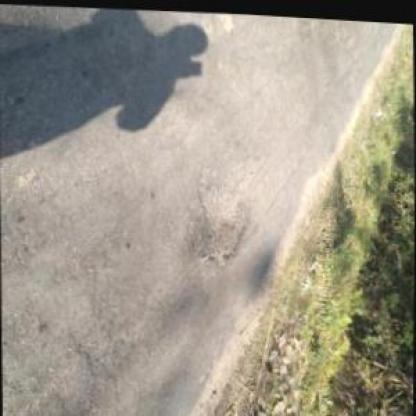pothole: (192, 182, 250, 266)
